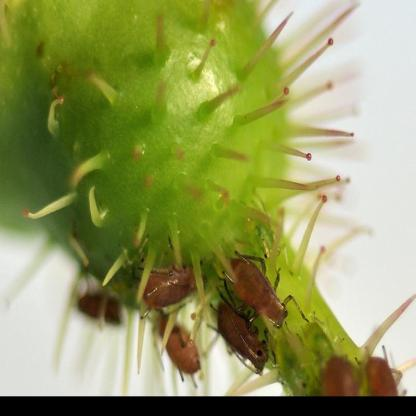aphid: (229, 244, 303, 335), (216, 289, 275, 375), (154, 308, 215, 385), (141, 254, 205, 312), (77, 282, 128, 332)
